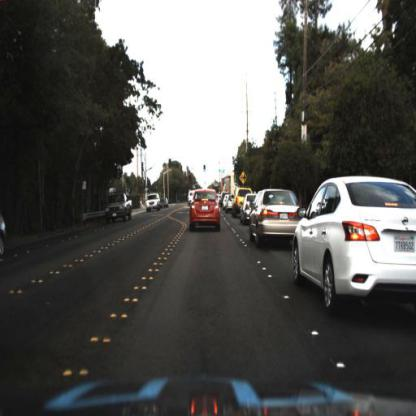car: (292, 158, 416, 322), (249, 187, 297, 251), (186, 187, 224, 237), (105, 189, 132, 223), (143, 191, 164, 217), (241, 194, 255, 230), (233, 187, 243, 221)
